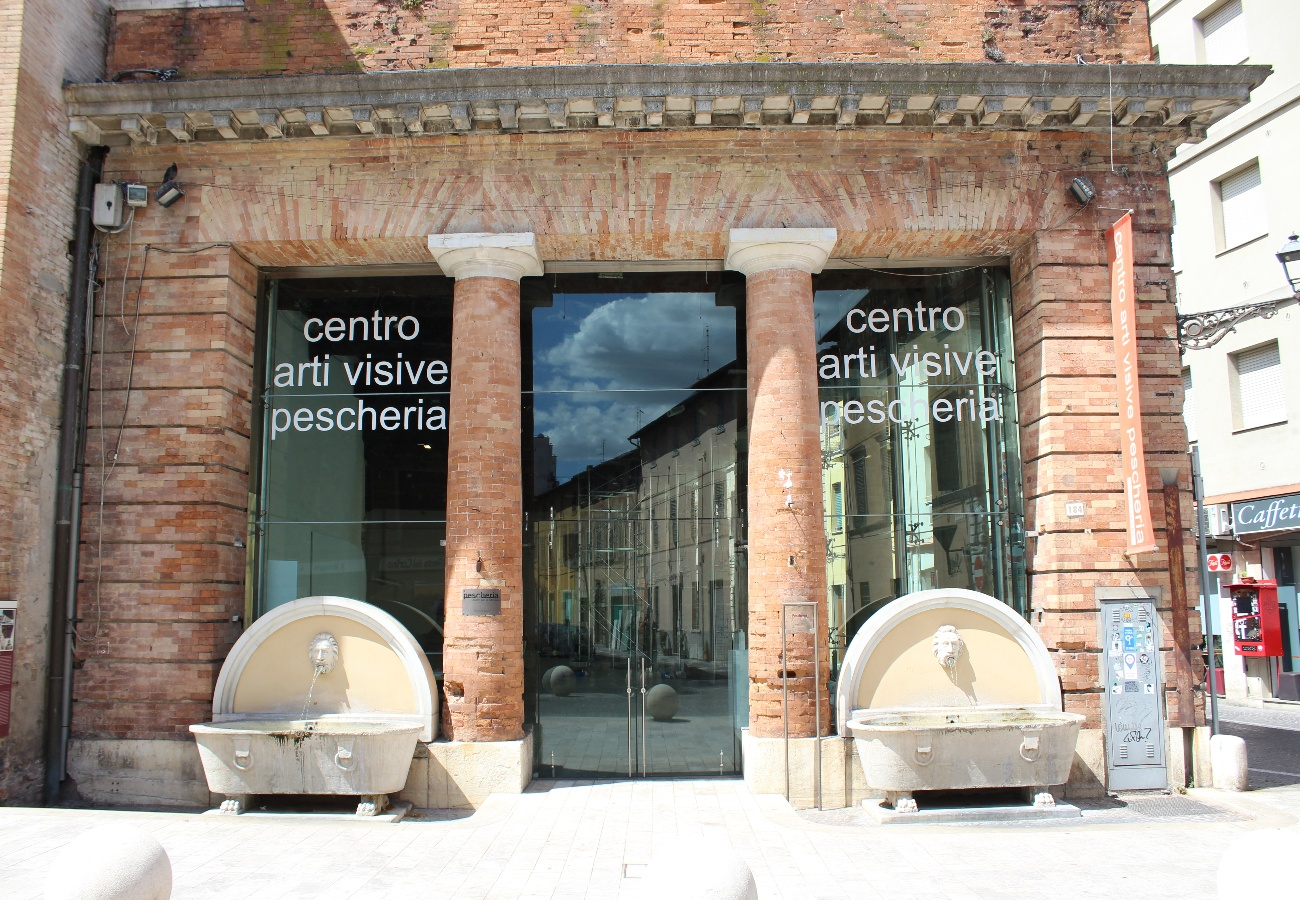Centro Arti Visive Pescheria: (45, 62, 1260, 822)
